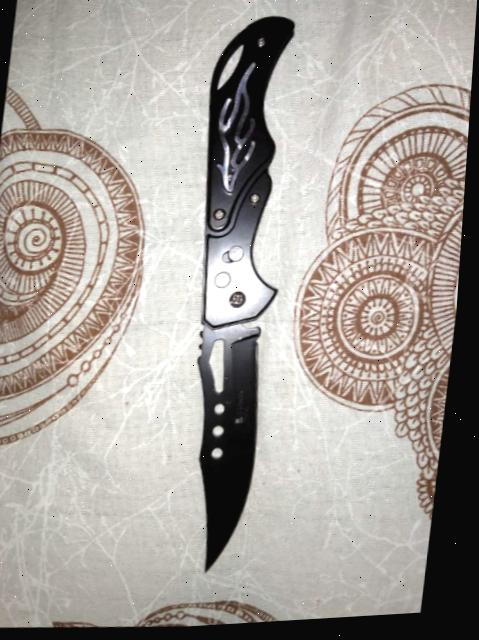pocket-knife: (151, 8, 314, 584)
